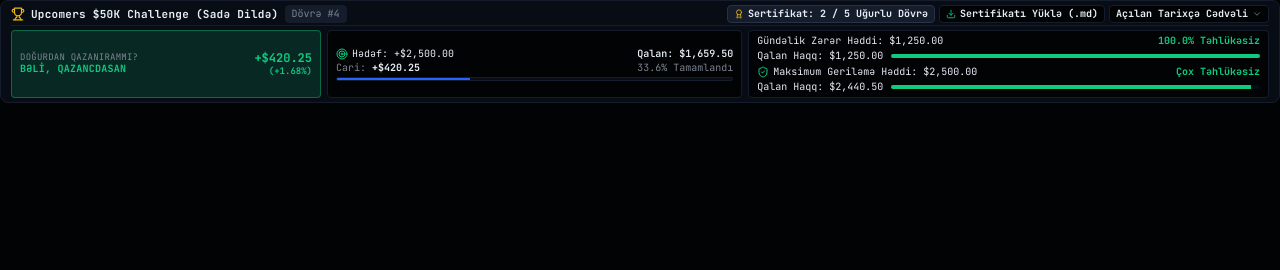
PropFirmChallengeHUD › expands cycle history table on click and displays formatted historical statuses
Click the button with test id "propfirm-history-toggle" at (1189, 14), box [1109, 5, 1269, 23]
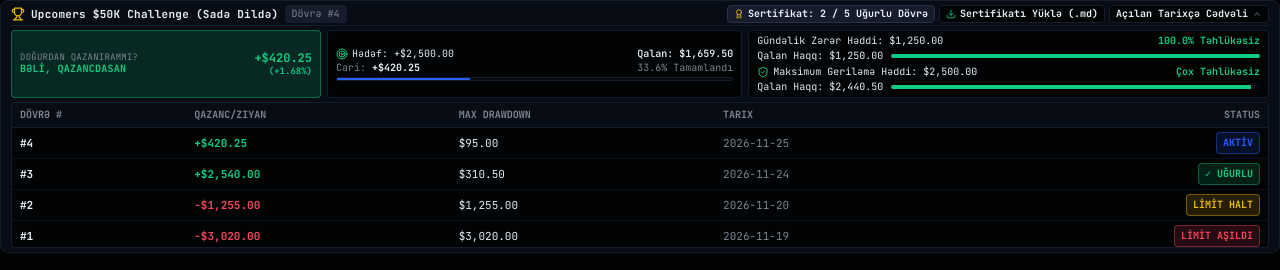
Expected: the element with test id "propfirm-history-table" is shown, [11, 102, 1269, 248]
